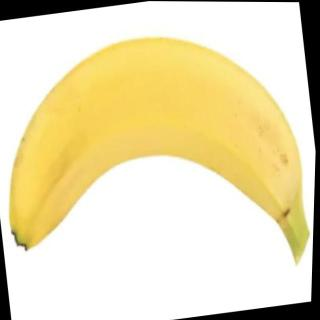banana: (0, 14, 314, 262)
